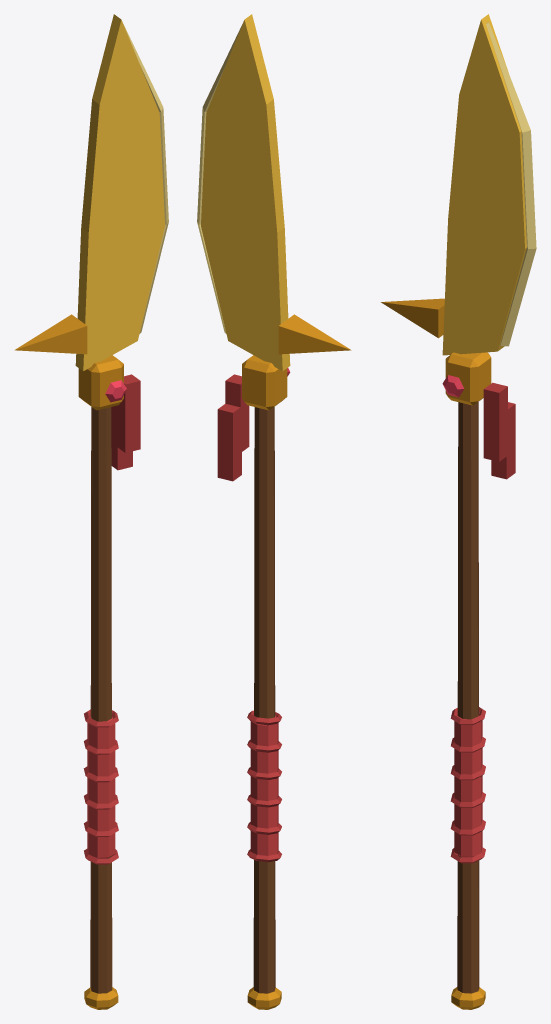
File: GoldGlaive.fbx
The picture shows the model from 3 angles, left to right: view 1: azimuth 30°, elevation 25°; view 2: azimuth 150°, elevation 25°; view 3: azimuth 330°, elevation 25°; orthographic projection.
Parts seen in each view (by area): view 1: GoldGlaive; view 2: GoldGlaive; view 3: GoldGlaive.
Boxes of the visible parts, x1,y1,x2,y2 form: GoldGlaive: (14,14,168,1009); GoldGlaive: (197,14,351,1009); GoldGlaive: (381,14,536,1009).
Bounding box in the file's own units: 1.42 × 8.62 × 0.46.
Materials: 1 (1 with a texture image).
